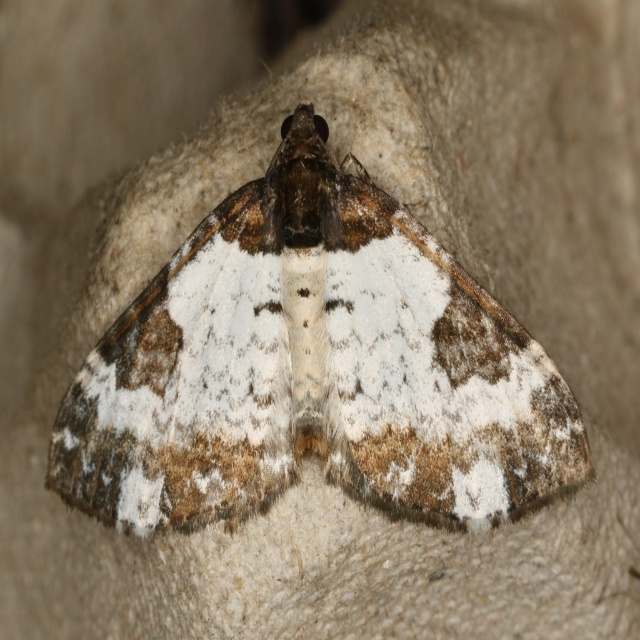Moths and butterflies: (45, 91, 595, 559)
